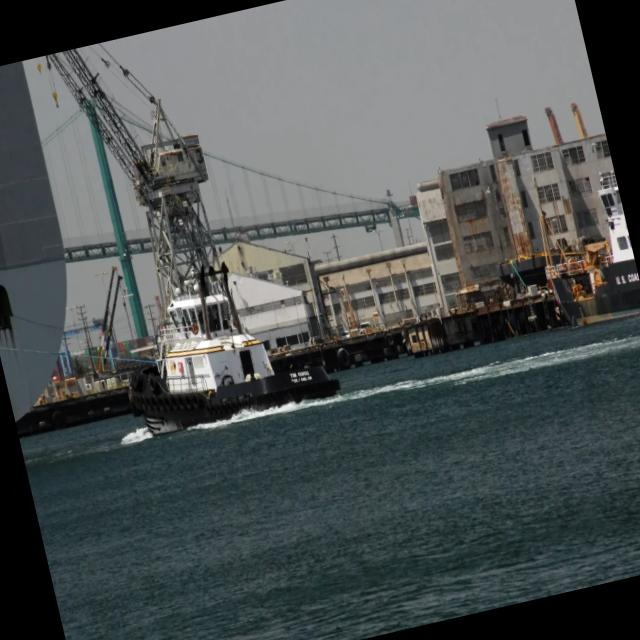Tug: (129, 257, 339, 434)
